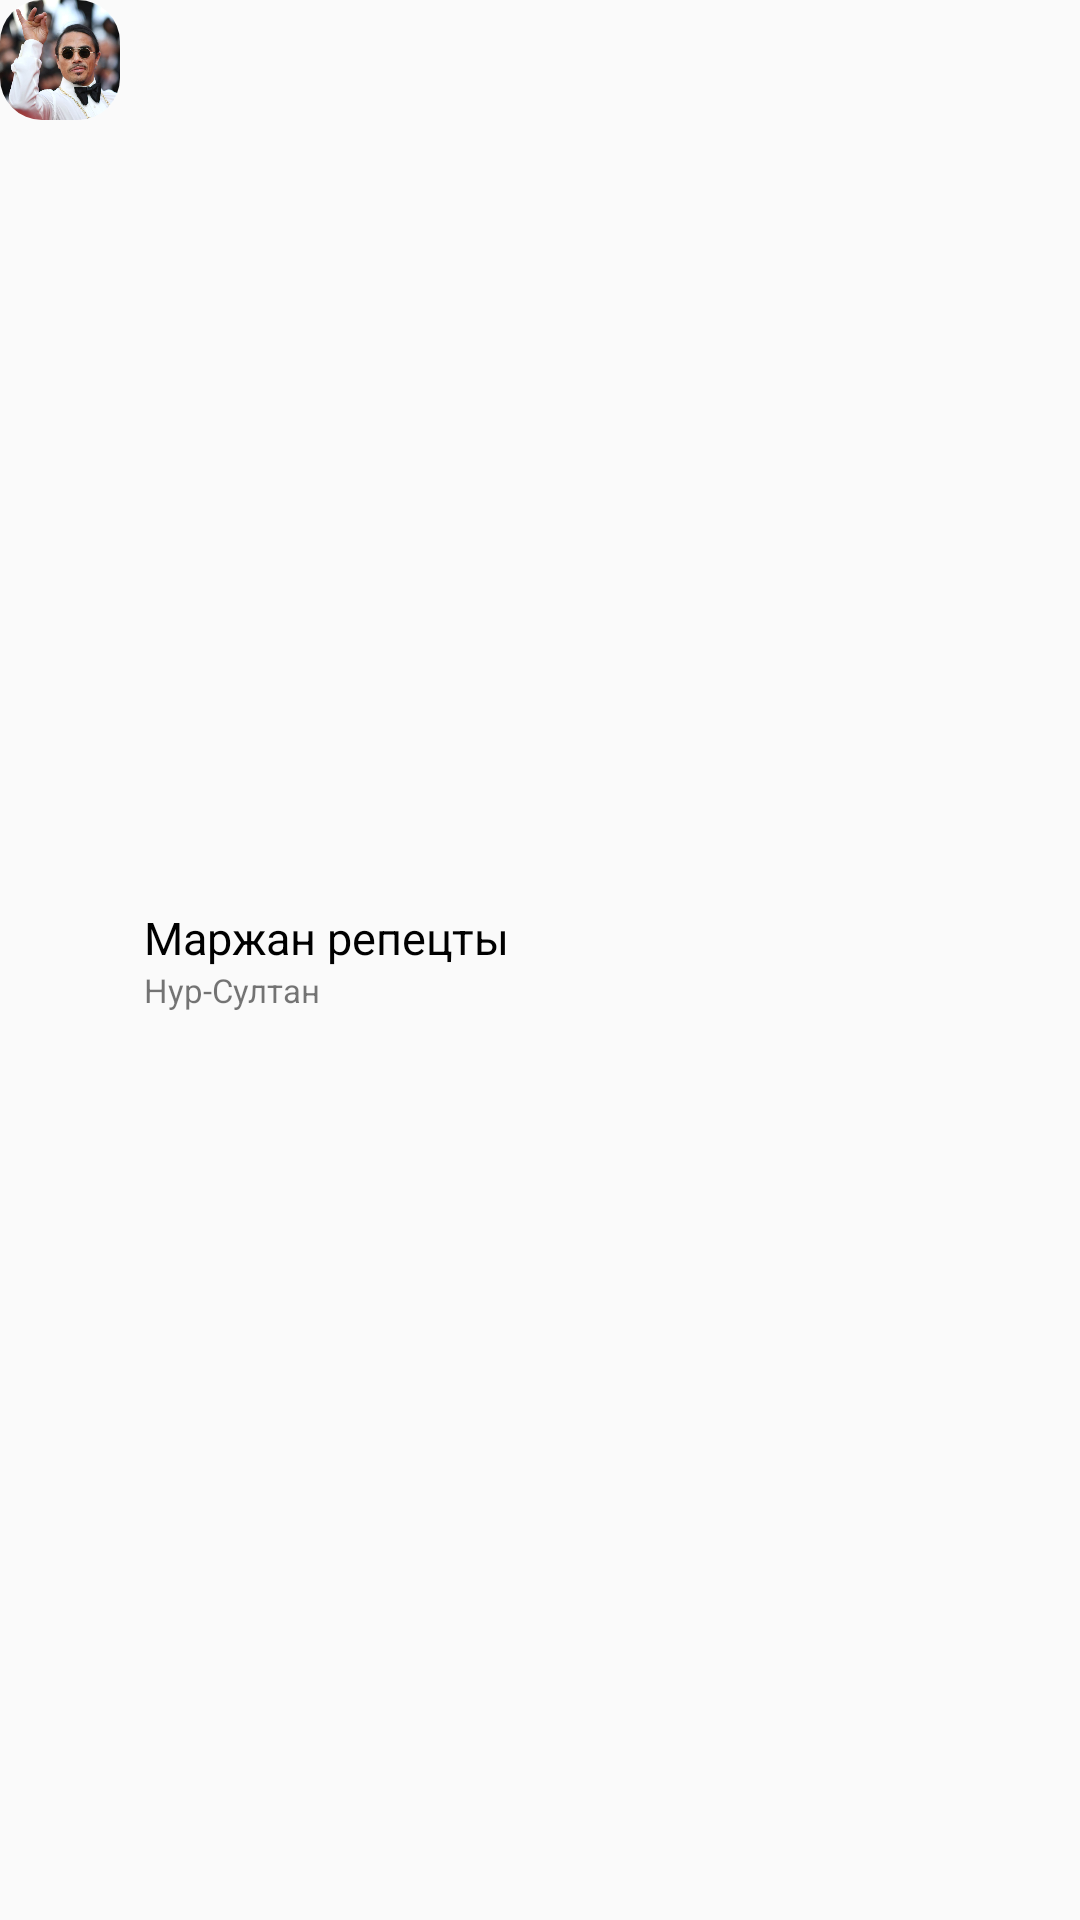

Icons on this 1080px x 1920px Android screen, each with its box as (x1, y1, x2, y2):
ava: (0, 0, 120, 120)
